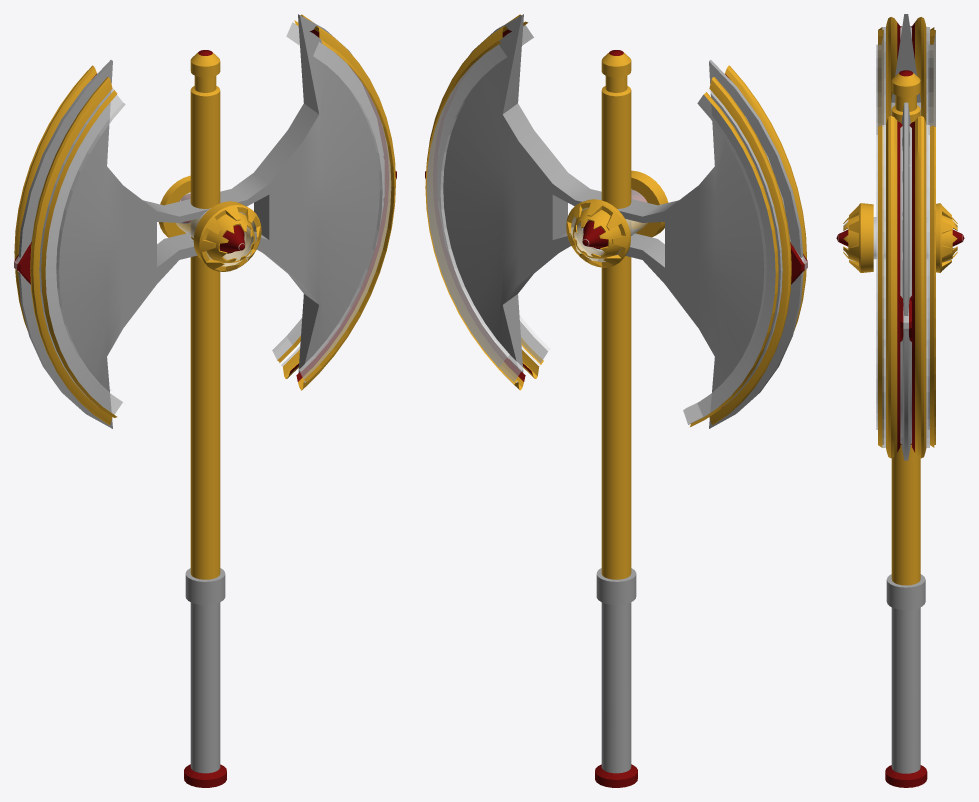
File: doubleAxe_01.fbx
3 renders of one model, left to right at view 1: azimuth 30°, elevation 25°; view 2: azimuth 150°, elevation 25°; view 3: azimuth 270°, elevation 25°, orthographic. The views are drawn at different scales.
Visible parts, largest first — view 1: doubleAxe; view 2: doubleAxe; view 3: doubleAxe.
Boxes of the visible parts, x1,y1,x2,y2 form: doubleAxe: [14, 14, 396, 787]; doubleAxe: [425, 14, 807, 787]; doubleAxe: [836, 14, 964, 787].
Bounding box in the file's own units: 1.69 × 3.15 × 0.5068.
